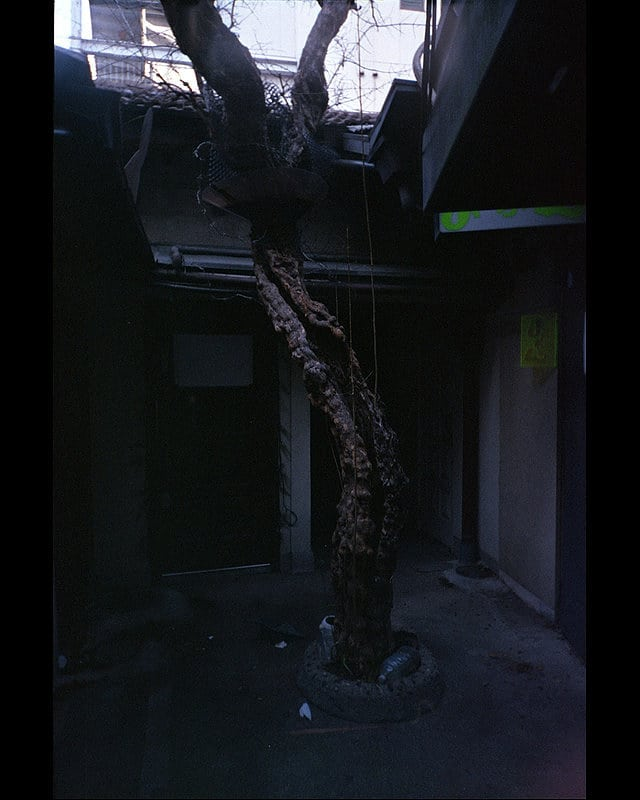tree: (170, 20, 442, 686)
